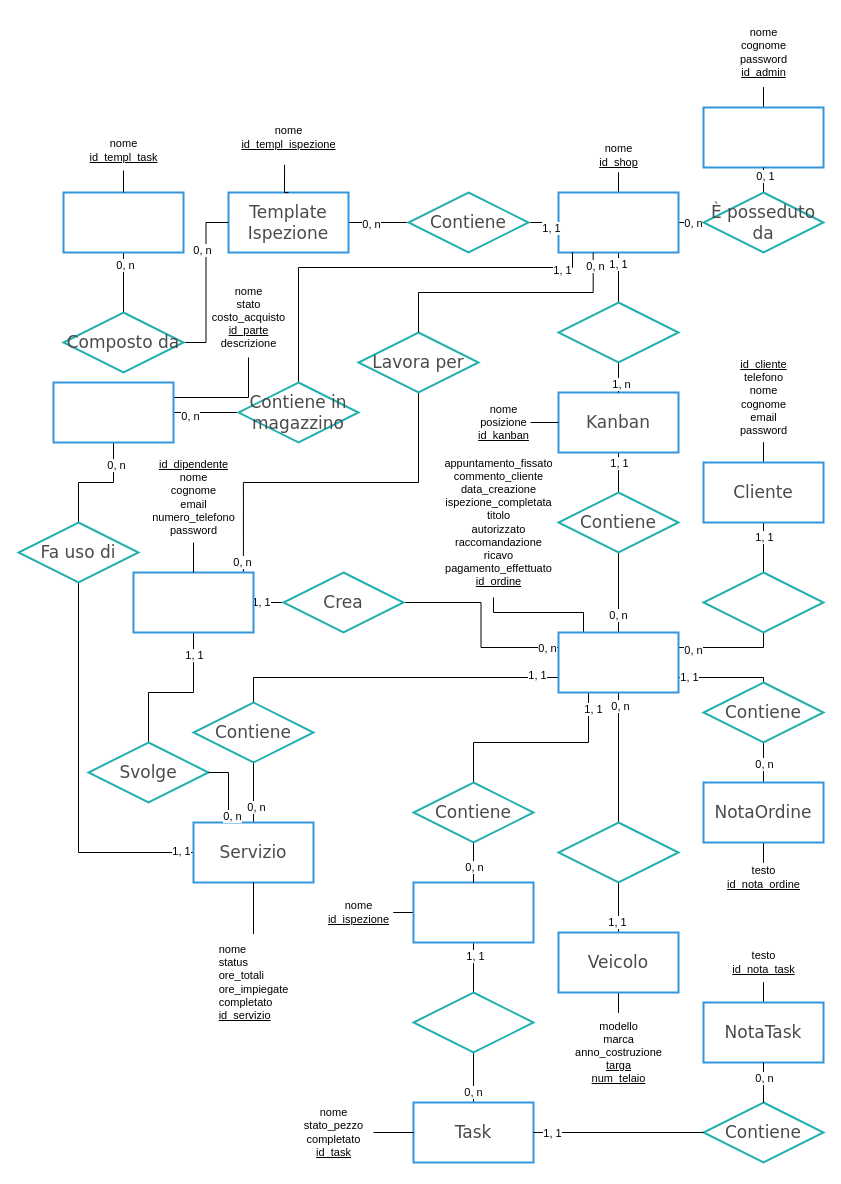
Some shapes in this 841 by 1184 pixel diagram are drawn without their labels. The box of each missing label's shape, as (x1, y1, x2, y2) in pixels:
Admin: (702, 106, 824, 168)
Composta da: (412, 991, 534, 1053)
Dipendente: (132, 571, 254, 633)
Effettua: (702, 571, 824, 633)
Ispezione: (412, 881, 534, 943)
Opera su: (557, 821, 679, 883)
Ordine: (557, 631, 679, 693)
Parte: (52, 381, 174, 443)
Shop: (557, 191, 679, 253)
TemplateTask: (62, 191, 184, 253)
È suddiviso in: (557, 301, 679, 363)
